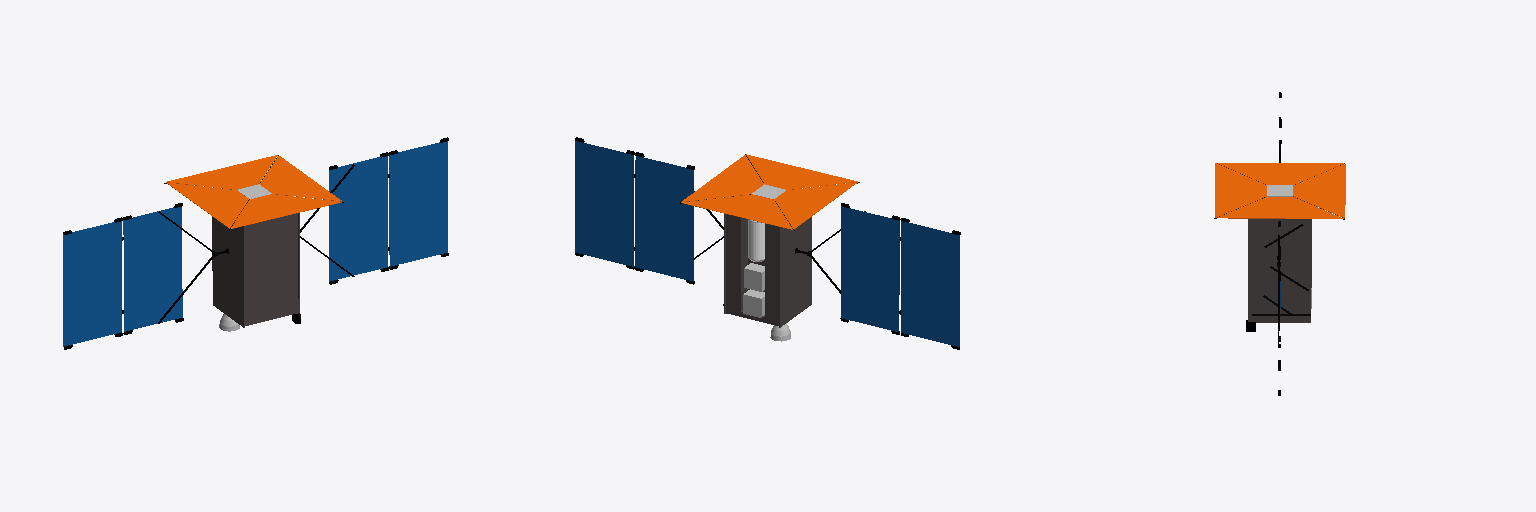
File: gps.obj
3 renders of one model, left to right at view 1: azimuth 30°, elevation 25°; view 2: azimuth 150°, elevation 25°; view 3: azimuth 270°, elevation 25°, orthographic.
Parts seen in each view (by area): view 1: Satellite_Cube.005, DeployedReflector_Cube.089, Solar_Panel.002_Plane.006, Solar_Panel.001_Plane.005, Solar_Panel.003_Plane.001, Solar_Panel_Plane.003; view 2: DeployedReflector_Cube.089, Satellite_Cube.005, Solar_Panel.002_Plane.006, Solar_Panel.001_Plane.005, Solar_Panel.003_Plane.001, Solar_Panel_Plane.003, Panels_Cube.007, Tank_Cylinder.031; view 3: DeployedReflector_Cube.089, Satellite_Cube.005.
Part boxes in pixels (left/top/right/bottom): Satellite_Cube.005: left=212, top=213, right=299, bottom=327; DeployedReflector_Cube.089: left=166, top=155, right=342, bottom=228; Solar_Panel.002_Plane.006: left=63, top=221, right=121, bottom=346; Solar_Panel.001_Plane.005: left=389, top=141, right=447, bottom=266; Solar_Panel.003_Plane.001: left=123, top=207, right=182, bottom=331; Solar_Panel_Plane.003: left=329, top=156, right=387, bottom=281; DeployedReflector_Cube.089: left=681, top=154, right=857, bottom=229; Satellite_Cube.005: left=724, top=196, right=811, bottom=327; Solar_Panel.002_Plane.006: left=901, top=221, right=959, bottom=346; Solar_Panel.001_Plane.005: left=575, top=141, right=633, bottom=266; Solar_Panel.003_Plane.001: left=841, top=206, right=899, bottom=331; Solar_Panel_Plane.003: left=635, top=156, right=693, bottom=281; Panels_Cube.007: left=743, top=263, right=764, bottom=317; Tank_Cylinder.031: left=748, top=219, right=764, bottom=261; DeployedReflector_Cube.089: left=1215, top=163, right=1345, bottom=218; Satellite_Cube.005: left=1248, top=204, right=1311, bottom=322.
Size of the model in its own units: 8.91 by 3.16 by 2.63.